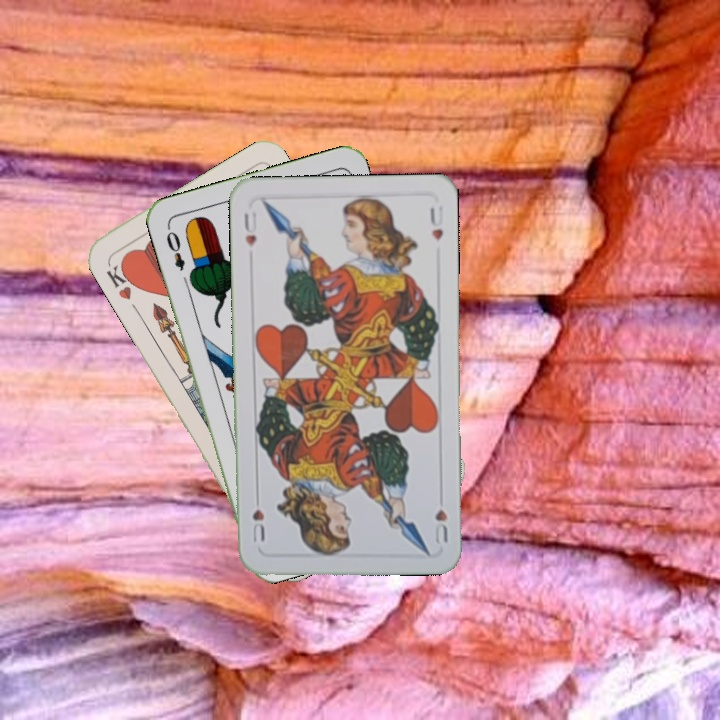EO: (162, 222, 188, 273)
HK: (102, 257, 140, 303)
HU: (239, 208, 260, 249), (431, 505, 450, 546)
